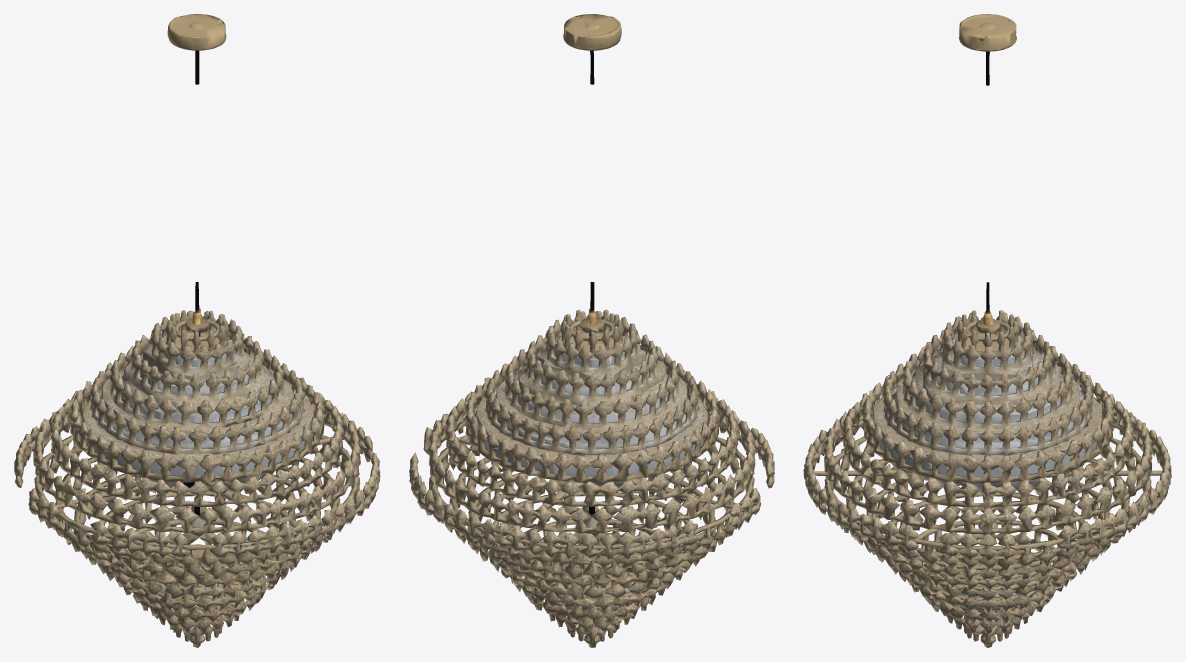
File: decor-chandelier-diamond.glb
3 views of the same model, side by side, from view 1: azimuth 30°, elevation 25°; view 2: azimuth 150°, elevation 25°; view 3: azimuth 270°, elevation 25° (orthographic).
Visible parts, largest first — view 1: tripo_node_543514f1-6854-44ad-80eb-5b5954113af2; view 2: tripo_node_543514f1-6854-44ad-80eb-5b5954113af2; view 3: tripo_node_543514f1-6854-44ad-80eb-5b5954113af2.
Boxes of the visible parts, x1,y1,x2,y2 form: tripo_node_543514f1-6854-44ad-80eb-5b5954113af2: (14, 14, 380, 647); tripo_node_543514f1-6854-44ad-80eb-5b5954113af2: (409, 14, 774, 647); tripo_node_543514f1-6854-44ad-80eb-5b5954113af2: (803, 14, 1171, 647).
Size of the model in its own units: 0.4812 by 0.9 by 0.4822.
Materials: 1 (1 with a texture image).
